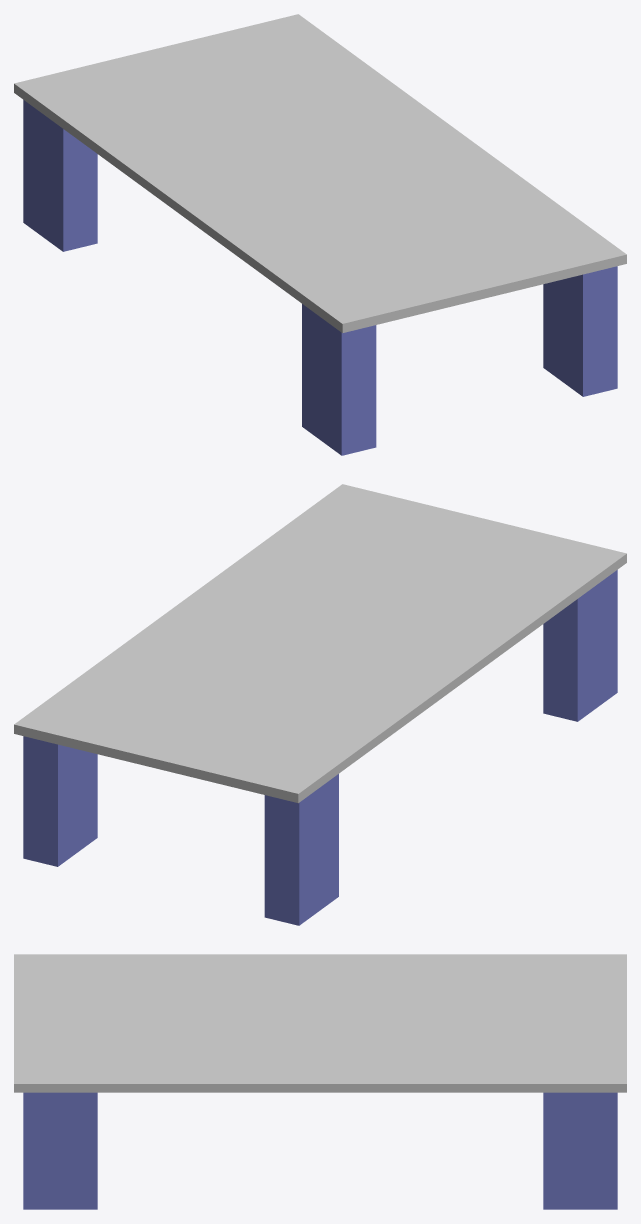
File: plataforma.fbx
3 renders of one model, top to bottom at view 1: azimuth 30°, elevation 25°; view 2: azimuth 150°, elevation 25°; view 3: azimuth 270°, elevation 25°, orthographic. The views are drawn at different scales.
Visible parts, largest first — view 1: Plataforma; view 2: Plataforma; view 3: Plataforma.
Boxes of the visible parts, box(x1,y1,x2,y2) form: Plataforma: box(14, 14, 626, 455); Plataforma: box(14, 484, 626, 925); Plataforma: box(14, 954, 626, 1209).
Bounding box in the file's own units: 1600 × 735 × 3200.
